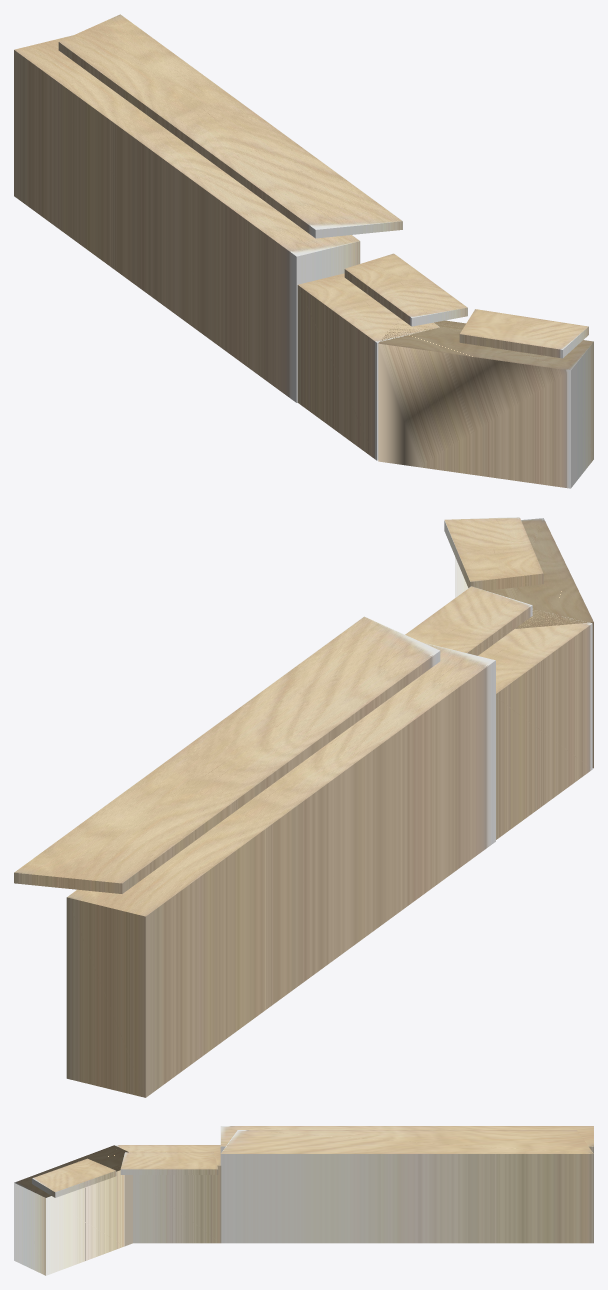
File: bancone_attesa_colorato.fbx
The picture shows the model from 3 angles, top to bottom: view 1: azimuth 30°, elevation 25°; view 2: azimuth 150°, elevation 25°; view 3: azimuth 270°, elevation 25°; orthographic projection. The views are drawn at different scales.
Visible parts, largest first — view 1: Cube_1, Cube_4, Cube, Cube_2, Cube_5, Cube_3; view 2: Cube_1, Cube, Cube_2, Cube_3, Cube_4, Cube_5; view 3: Cube_1, Cube, Cube_4, Cube_2, Cube_5, Cube_3.
Part boxes in pixels (x1,y1,x2,y2): Cube_1: (14,35,360,402); Cube_4: (378,320,593,488); Cube: (58,14,402,238); Cube_2: (297,273,439,460); Cube_5: (344,253,467,326); Cube_3: (459,309,588,358); Cube_1: (66,642,495,1097); Cube: (14,616,440,893); Cube_2: (478,609,592,839); Cube_3: (444,517,543,590); Cube_4: (455,518,593,768); Cube_5: (405,586,532,655); Cube_1: (220,1126,593,1243); Cube: (220,1130,593,1159); Cube_4: (14,1145,132,1275); Cube_2: (116,1145,221,1243); Cube_5: (120,1152,218,1174); Cube_3: (32,1158,116,1197).
Size of the model in its own units: 1.21 by 1.08 by 5.5.
Materials: 2 (2 with a texture image).
